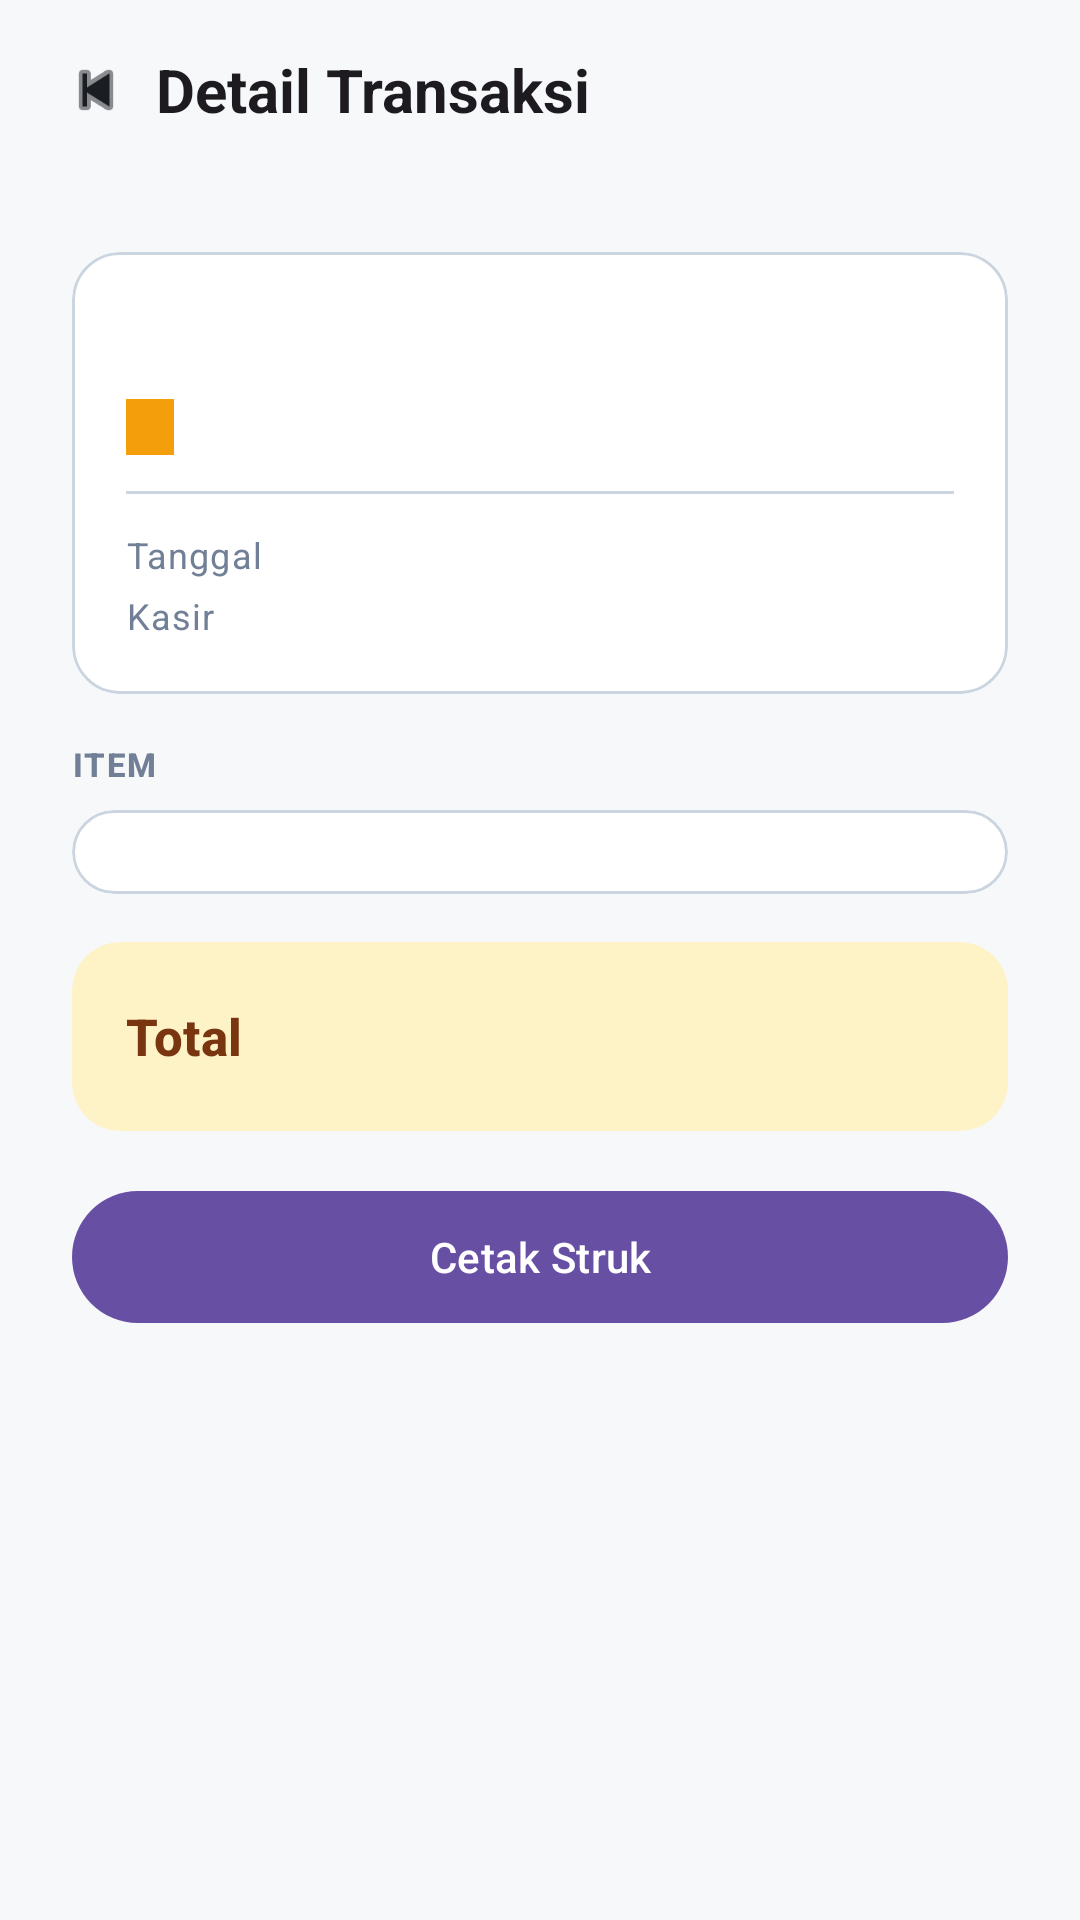

Point at icon controls on the screen. Image size 1080px×1920px, points as point (x, y).
Kembali: point (96, 90)
